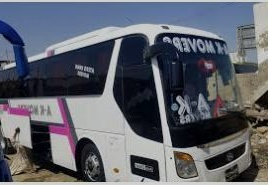bus: (3, 23, 254, 184)
